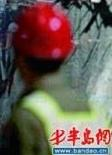hard-hat: (12, 1, 74, 62)
vest: (10, 72, 112, 153)
